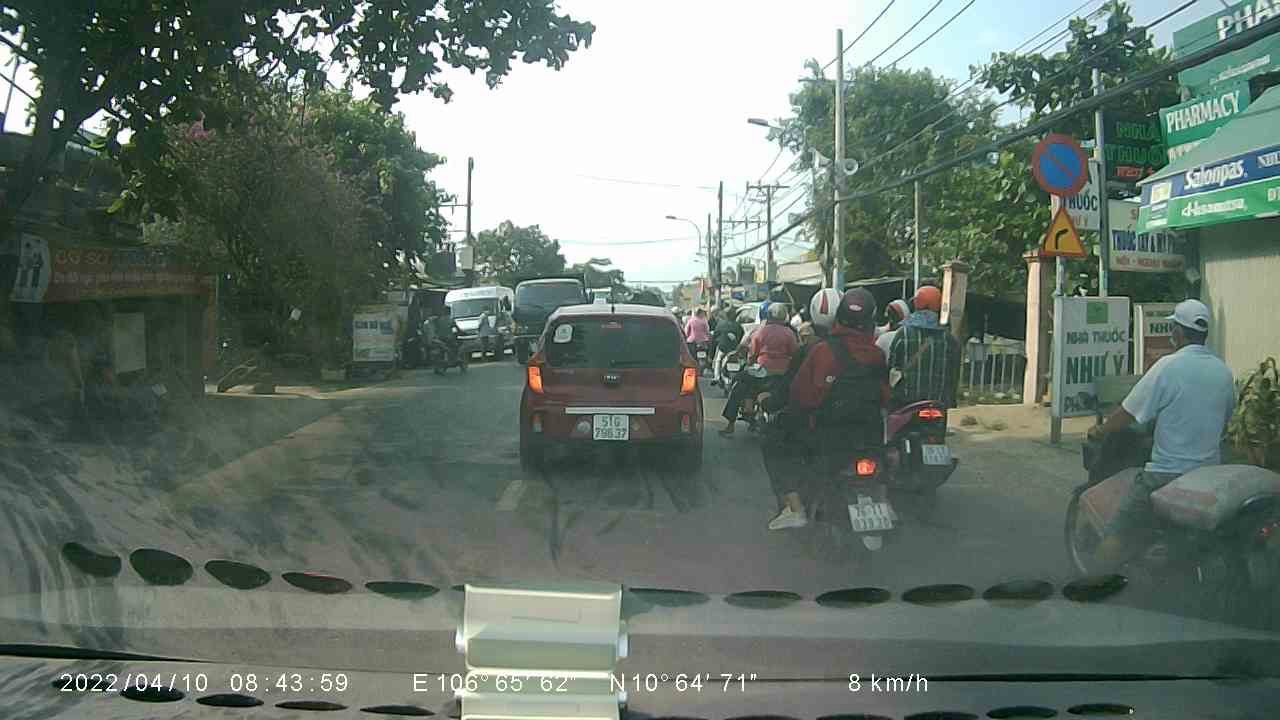Bien khac: (1036, 202, 1092, 263)
Cam do xe: (1026, 131, 1091, 201)
